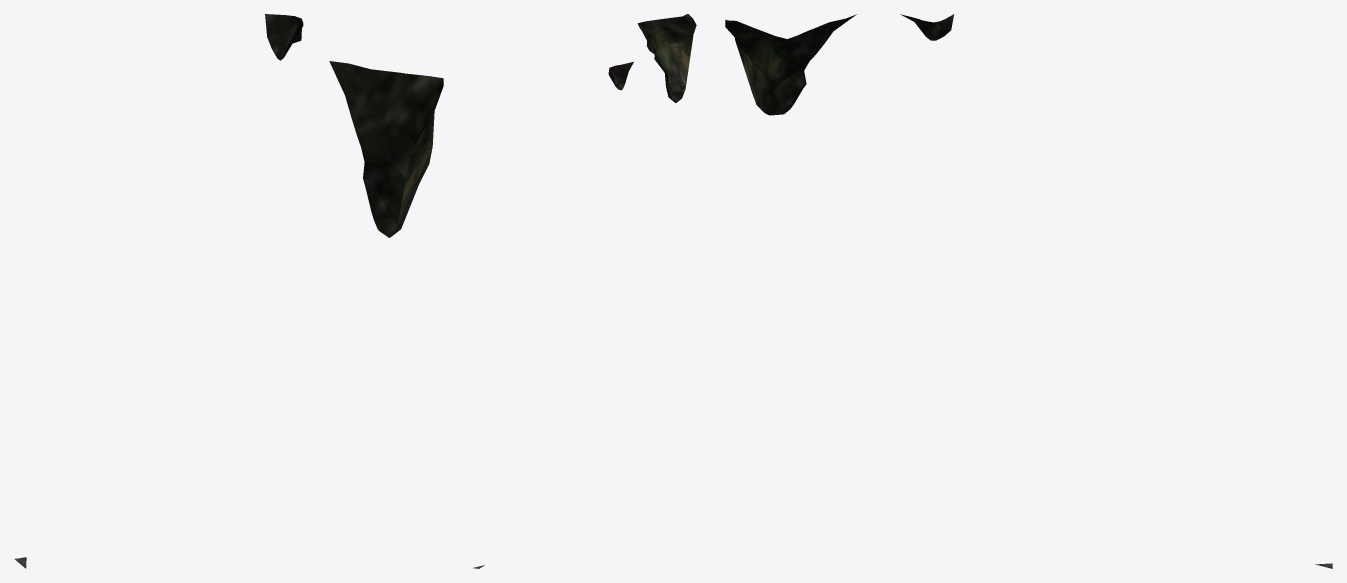
The picture shows the model from 3 angles, left to right: view 1: azimuth 30°, elevation 25°; view 2: azimuth 150°, elevation 25°; view 3: azimuth 270°, elevation 25°; orthographic projection. The views are drawn at different scales.
Size of the model in its own units: 0.1625 by 1.67 by 1.67.
1 material, 1 textured.
